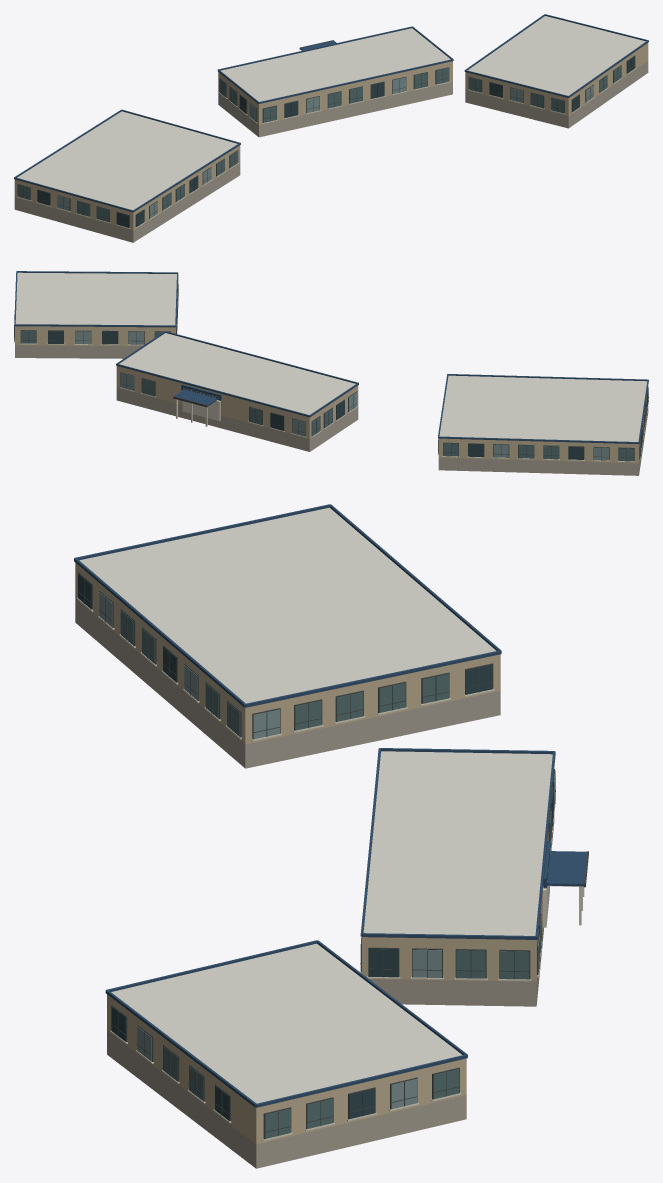
Rendered from oxford-district-office.glb.
3 renders of one model, top to bottom at view 1: azimuth 30°, elevation 25°; view 2: azimuth 150°, elevation 25°; view 3: azimuth 270°, elevation 25°, orthographic. The views are drawn at different scales.
Visible parts, largest first — view 1: 599106110 | Roof, 599106110 | Shell and foundation, 599106110 | Facades; view 2: 599106110 | Roof, 599106110 | Shell and foundation, 599106110 | Facades; view 3: 599106110 | Roof, 599106110 | Shell and foundation, 599106110 | Facades.
Boxes of the visible parts, bbox=[...] form: 599106110 | Roof: bbox=[17, 16, 645, 210]; 599106110 | Shell and foundation: bbox=[14, 43, 648, 242]; 599106110 | Facades: bbox=[14, 14, 648, 228]; 599106110 | Roof: bbox=[15, 272, 647, 441]; 599106110 | Shell and foundation: bbox=[15, 326, 648, 475]; 599106110 | Facades: bbox=[14, 271, 648, 462]; 599106110 | Roof: bbox=[79, 507, 552, 1103]; 599106110 | Shell and foundation: bbox=[75, 562, 554, 1168]; 599106110 | Facades: bbox=[74, 504, 588, 1140].
Bounding box in the file's own units: 102 × 5.62 × 36.91.
